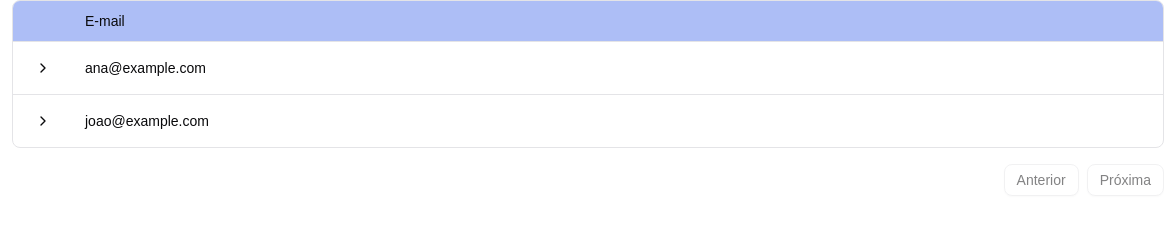
Test: DataTable › renderSubRow › não renderiza o conteúdo expandido até clicar no chevron
This screenshot has width=1176, height=234.
Expected: the text "Detalhes de ana@example.com" is not shown
Click the button named "Expandir linha" next to "ana@example.com".
click(43, 68)  # box [25,50,61,86]
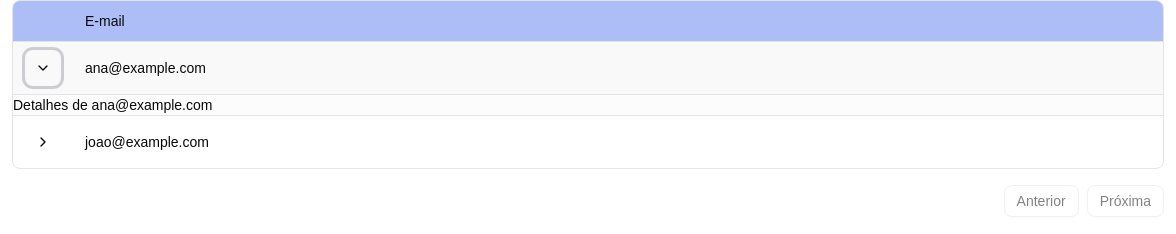
Result: the text "Detalhes de ana@example.com" is shown at [13,96,212,112]
